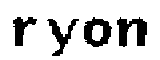n: (118, 15, 149, 51)
o: (82, 16, 110, 49)
r: (12, 14, 38, 49)
y: (45, 14, 80, 60)
